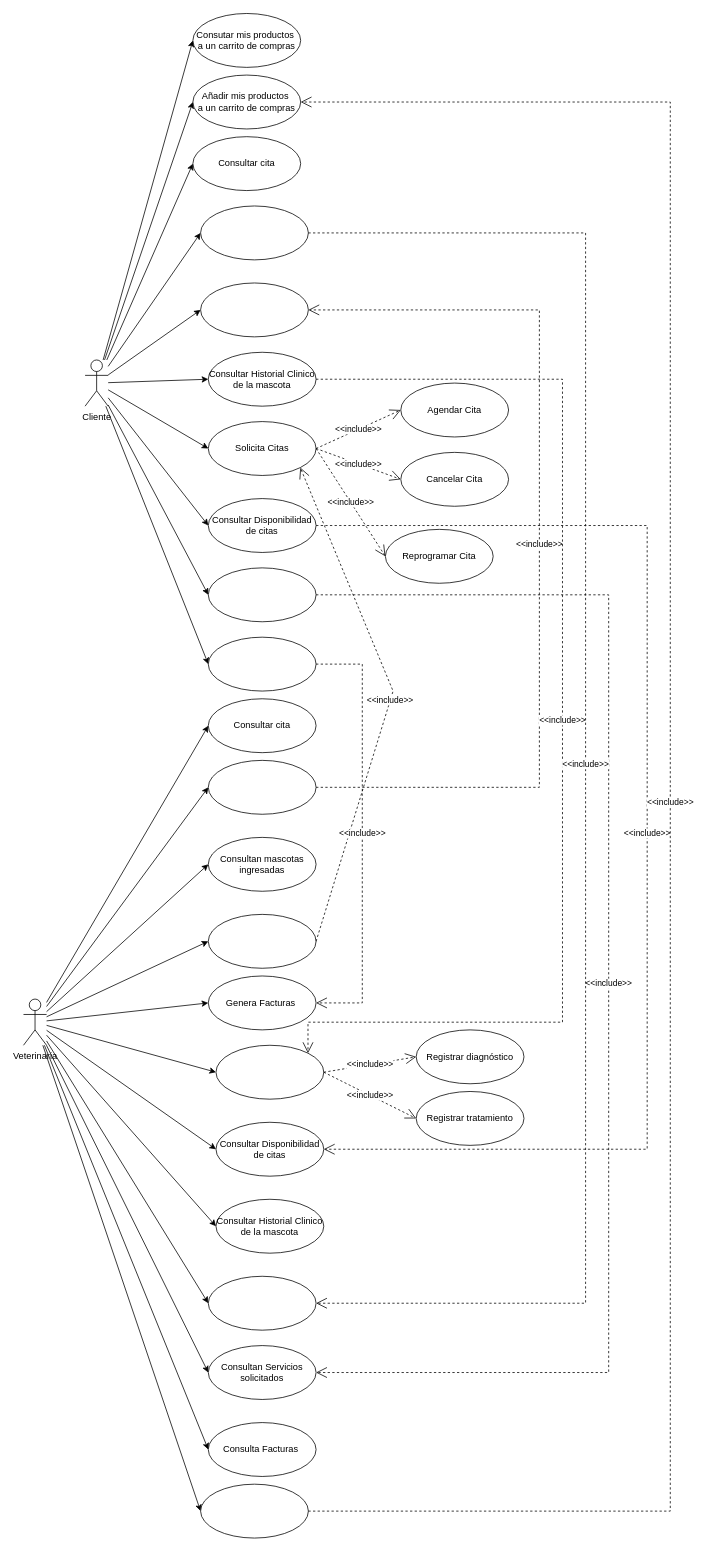
Some shapes in this 707 by 1552 pixel diagram are drawn without their labels. Here are the shapes that lost their labels. From the top down, the box of each, then its label:
(200, 205, 308, 260): Consultar productos
(200, 282, 308, 337): Llevar mascotas
(208, 567, 316, 622): Consultar Servicios
(208, 636, 316, 691): Consultan Factura
(208, 760, 316, 814): Registran mascotas ingresadas
(208, 914, 316, 968): Asignan Citas
(215, 1045, 324, 1099): Genera Historial Clinico de la mascota
(208, 1276, 316, 1330): Proporcionar productos
(200, 1483, 308, 1538): Consulta carrito de compras
